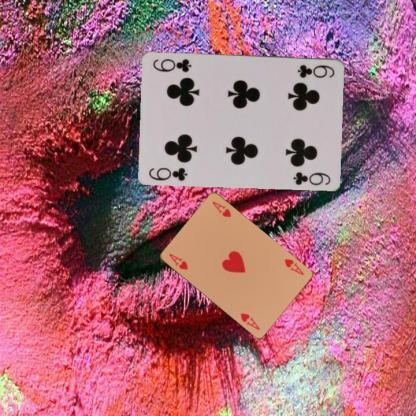6c: (296, 61, 336, 79), (147, 165, 189, 182)
Ah: (281, 256, 305, 276), (166, 251, 189, 271)
